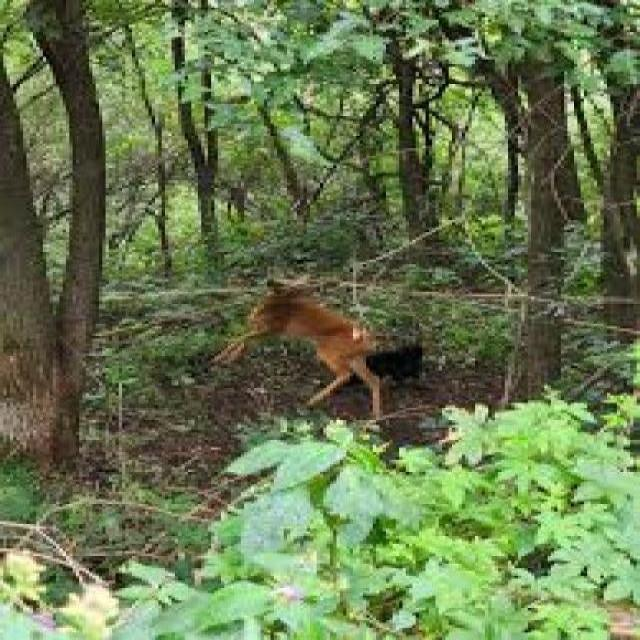deer: (216, 256, 401, 425)
